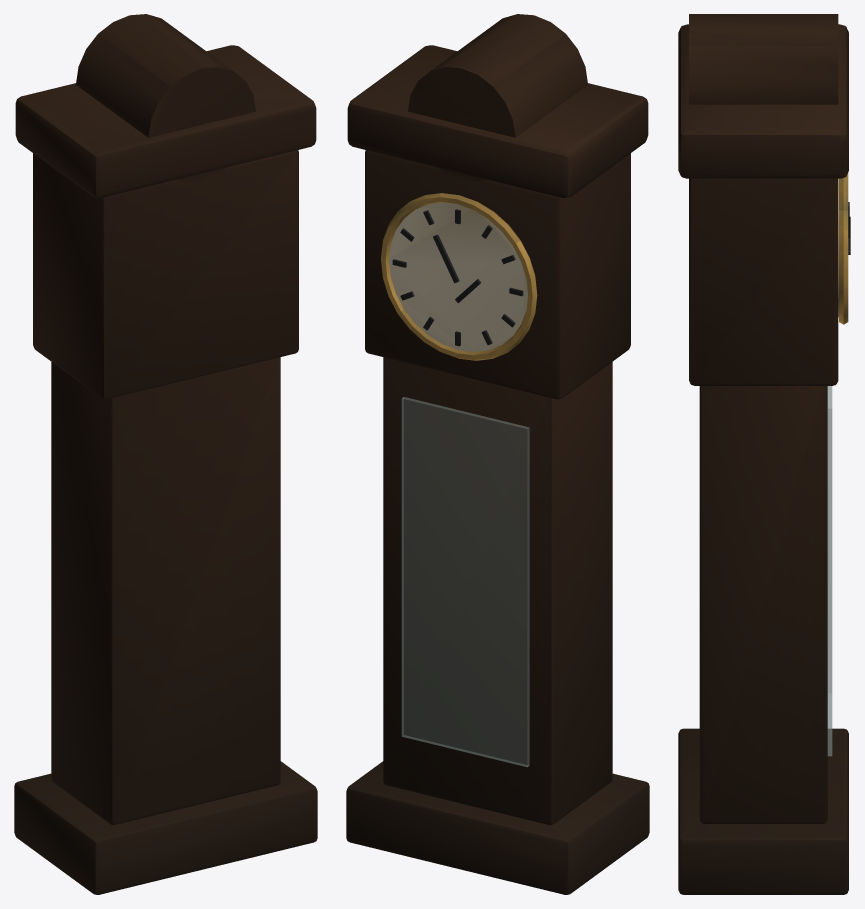
Rendered from GrandfatherClock.glb.
3 renders of one model, left to right at view 1: azimuth 30°, elevation 25°; view 2: azimuth 150°, elevation 25°; view 3: azimuth 270°, elevation 25°, orthographic. The views are drawn at different scales.
Visible parts, largest first — view 1: GrandfatherClock_wood_dark; view 2: GrandfatherClock_wood_dark, GrandfatherClock_glass, GrandfatherClock_paper, GrandfatherClock_brass, GrandfatherClock_metal_dark; view 3: GrandfatherClock_wood_dark, GrandfatherClock_glass, GrandfatherClock_brass.
Boxes of the visible parts, x1,y1,x2,y2 form: GrandfatherClock_wood_dark: [14, 14, 317, 894]; GrandfatherClock_wood_dark: [346, 14, 649, 894]; GrandfatherClock_glass: [401, 397, 529, 767]; GrandfatherClock_paper: [389, 202, 527, 351]; GrandfatherClock_brass: [381, 193, 537, 360]; GrandfatherClock_metal_dark: [392, 209, 523, 346]; GrandfatherClock_wood_dark: [678, 14, 848, 894]; GrandfatherClock_glass: [827, 386, 832, 756]; GrandfatherClock_brass: [839, 173, 848, 324].
Bounding box in the file's own units: 2.5 × 8.5 × 1.62.
